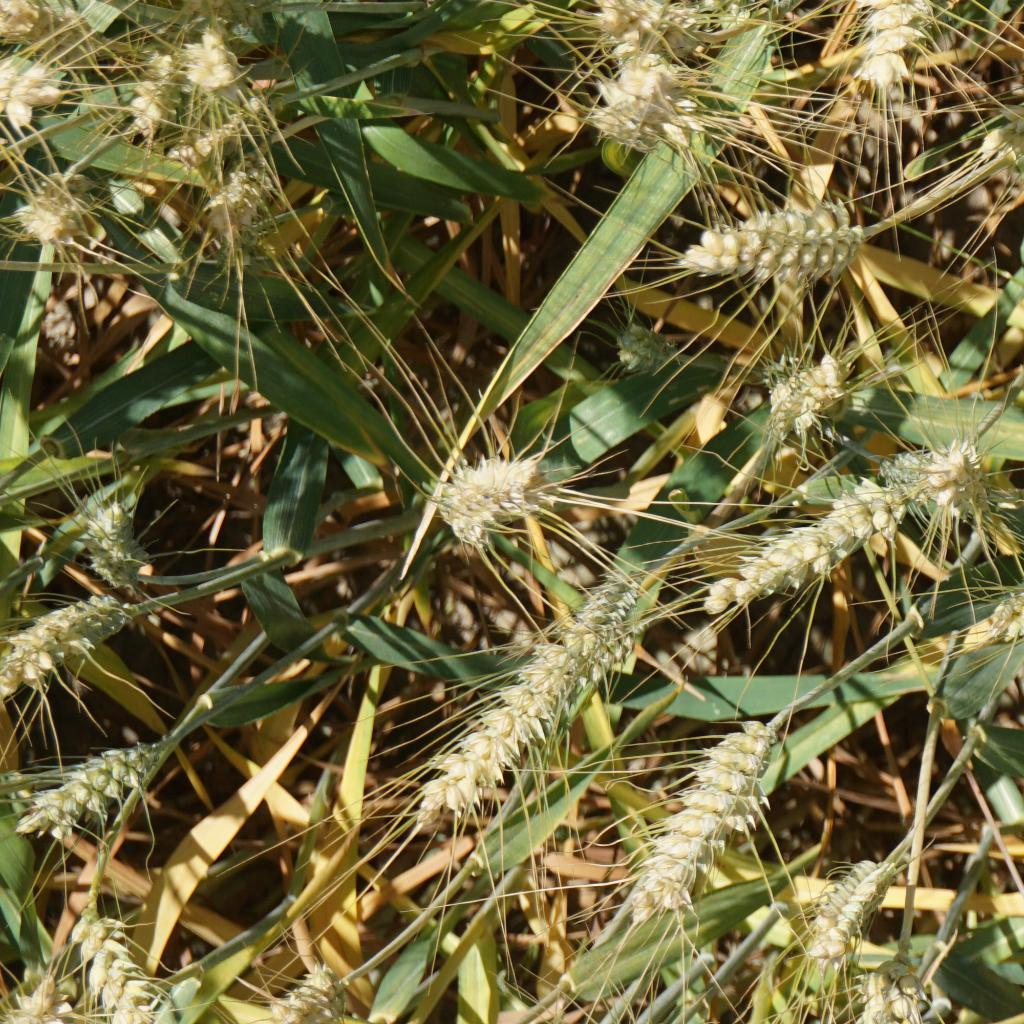0-0: (630, 738, 775, 892), (443, 661, 581, 816), (735, 493, 912, 603), (687, 184, 867, 284), (0, 595, 143, 694), (31, 736, 162, 837), (581, 44, 700, 155), (416, 438, 541, 537), (75, 908, 178, 1024), (780, 863, 887, 968), (746, 342, 840, 422), (25, 160, 100, 256), (853, 0, 924, 96), (581, 0, 700, 54), (924, 449, 1008, 521), (891, 439, 955, 531), (863, 950, 939, 1024), (173, 102, 277, 156), (214, 162, 278, 248), (268, 958, 350, 1024), (126, 48, 182, 133), (0, 57, 67, 128), (73, 506, 147, 570), (183, 31, 256, 92), (614, 310, 679, 378), (570, 571, 651, 624), (974, 563, 1024, 648), (0, 0, 75, 49), (5, 967, 63, 1024), (176, 0, 281, 31), (719, 0, 815, 25)
